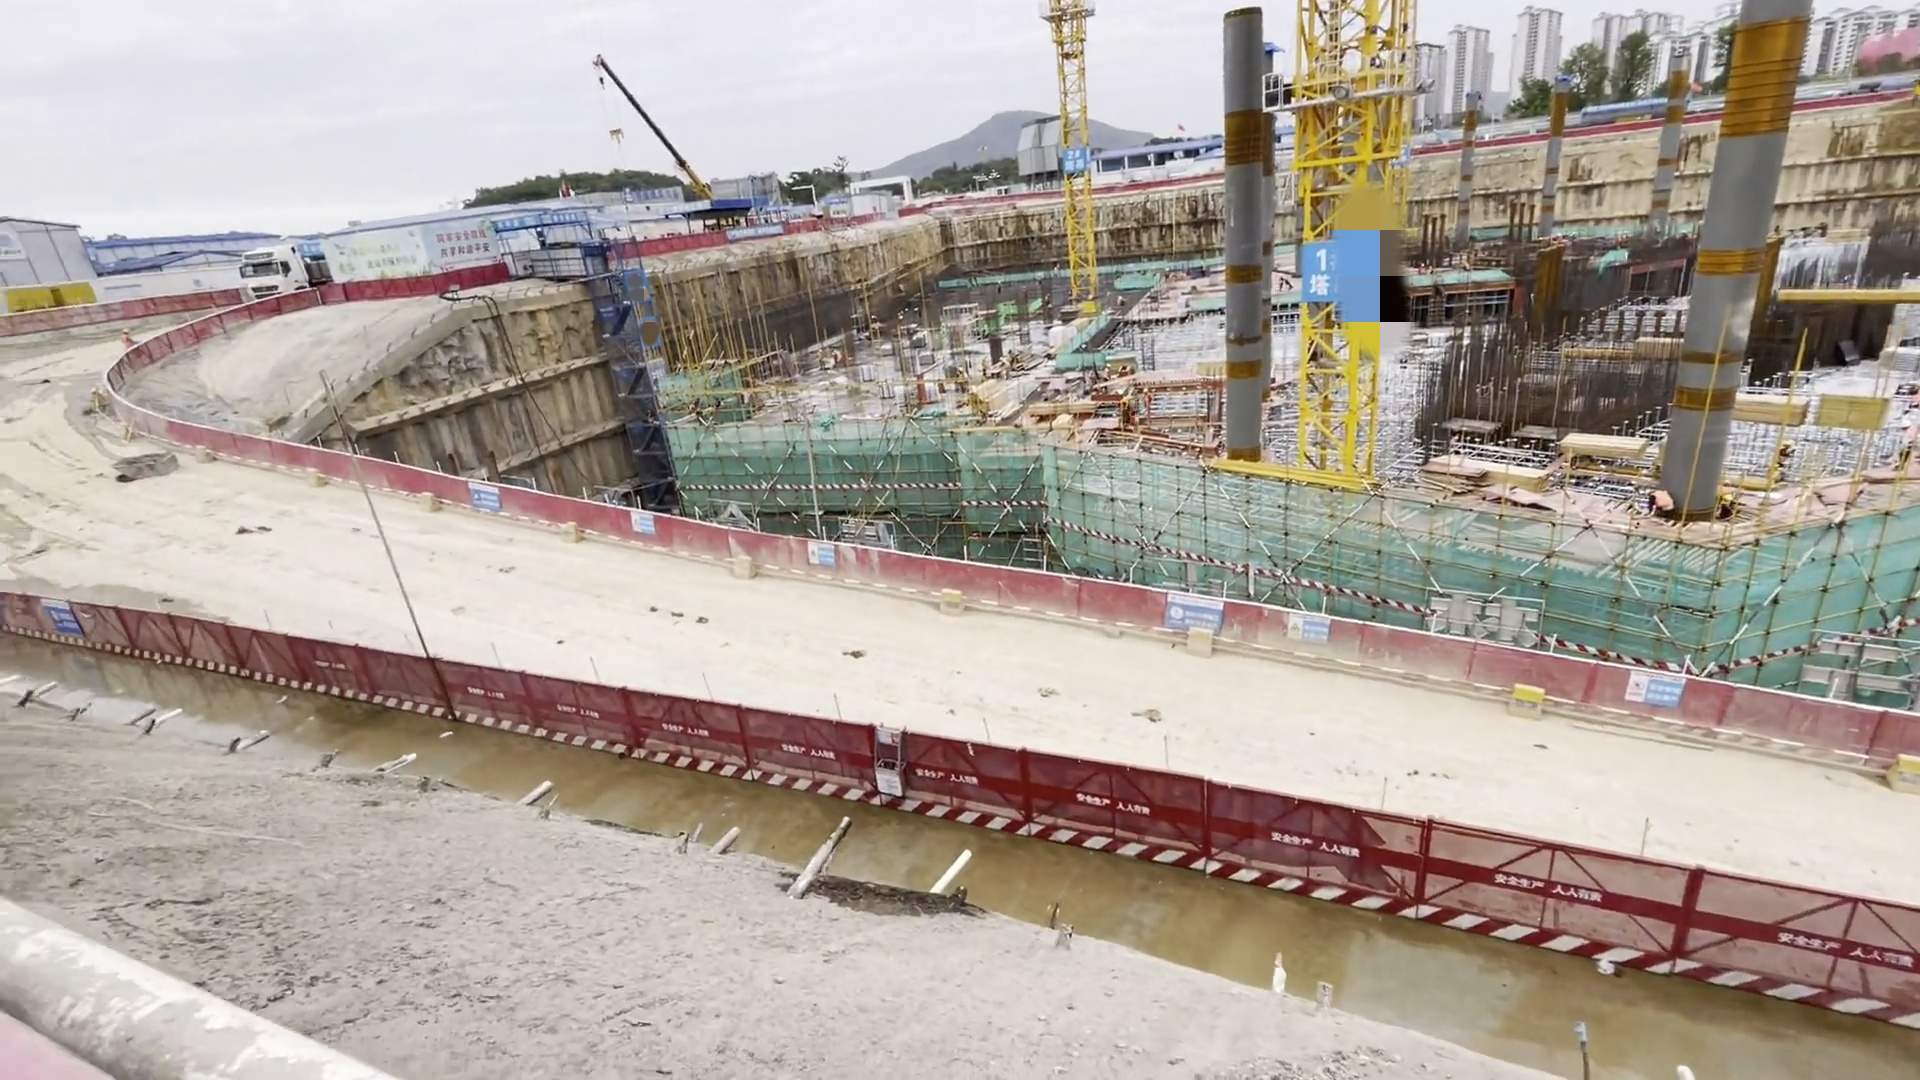fence: (1, 439, 1851, 1007)
slogan: (335, 222, 439, 277), (423, 218, 506, 278), (1153, 585, 1236, 644), (1622, 661, 1692, 720), (44, 580, 92, 665), (1287, 603, 1331, 657), (462, 475, 509, 514), (626, 502, 658, 550), (799, 539, 839, 574)
